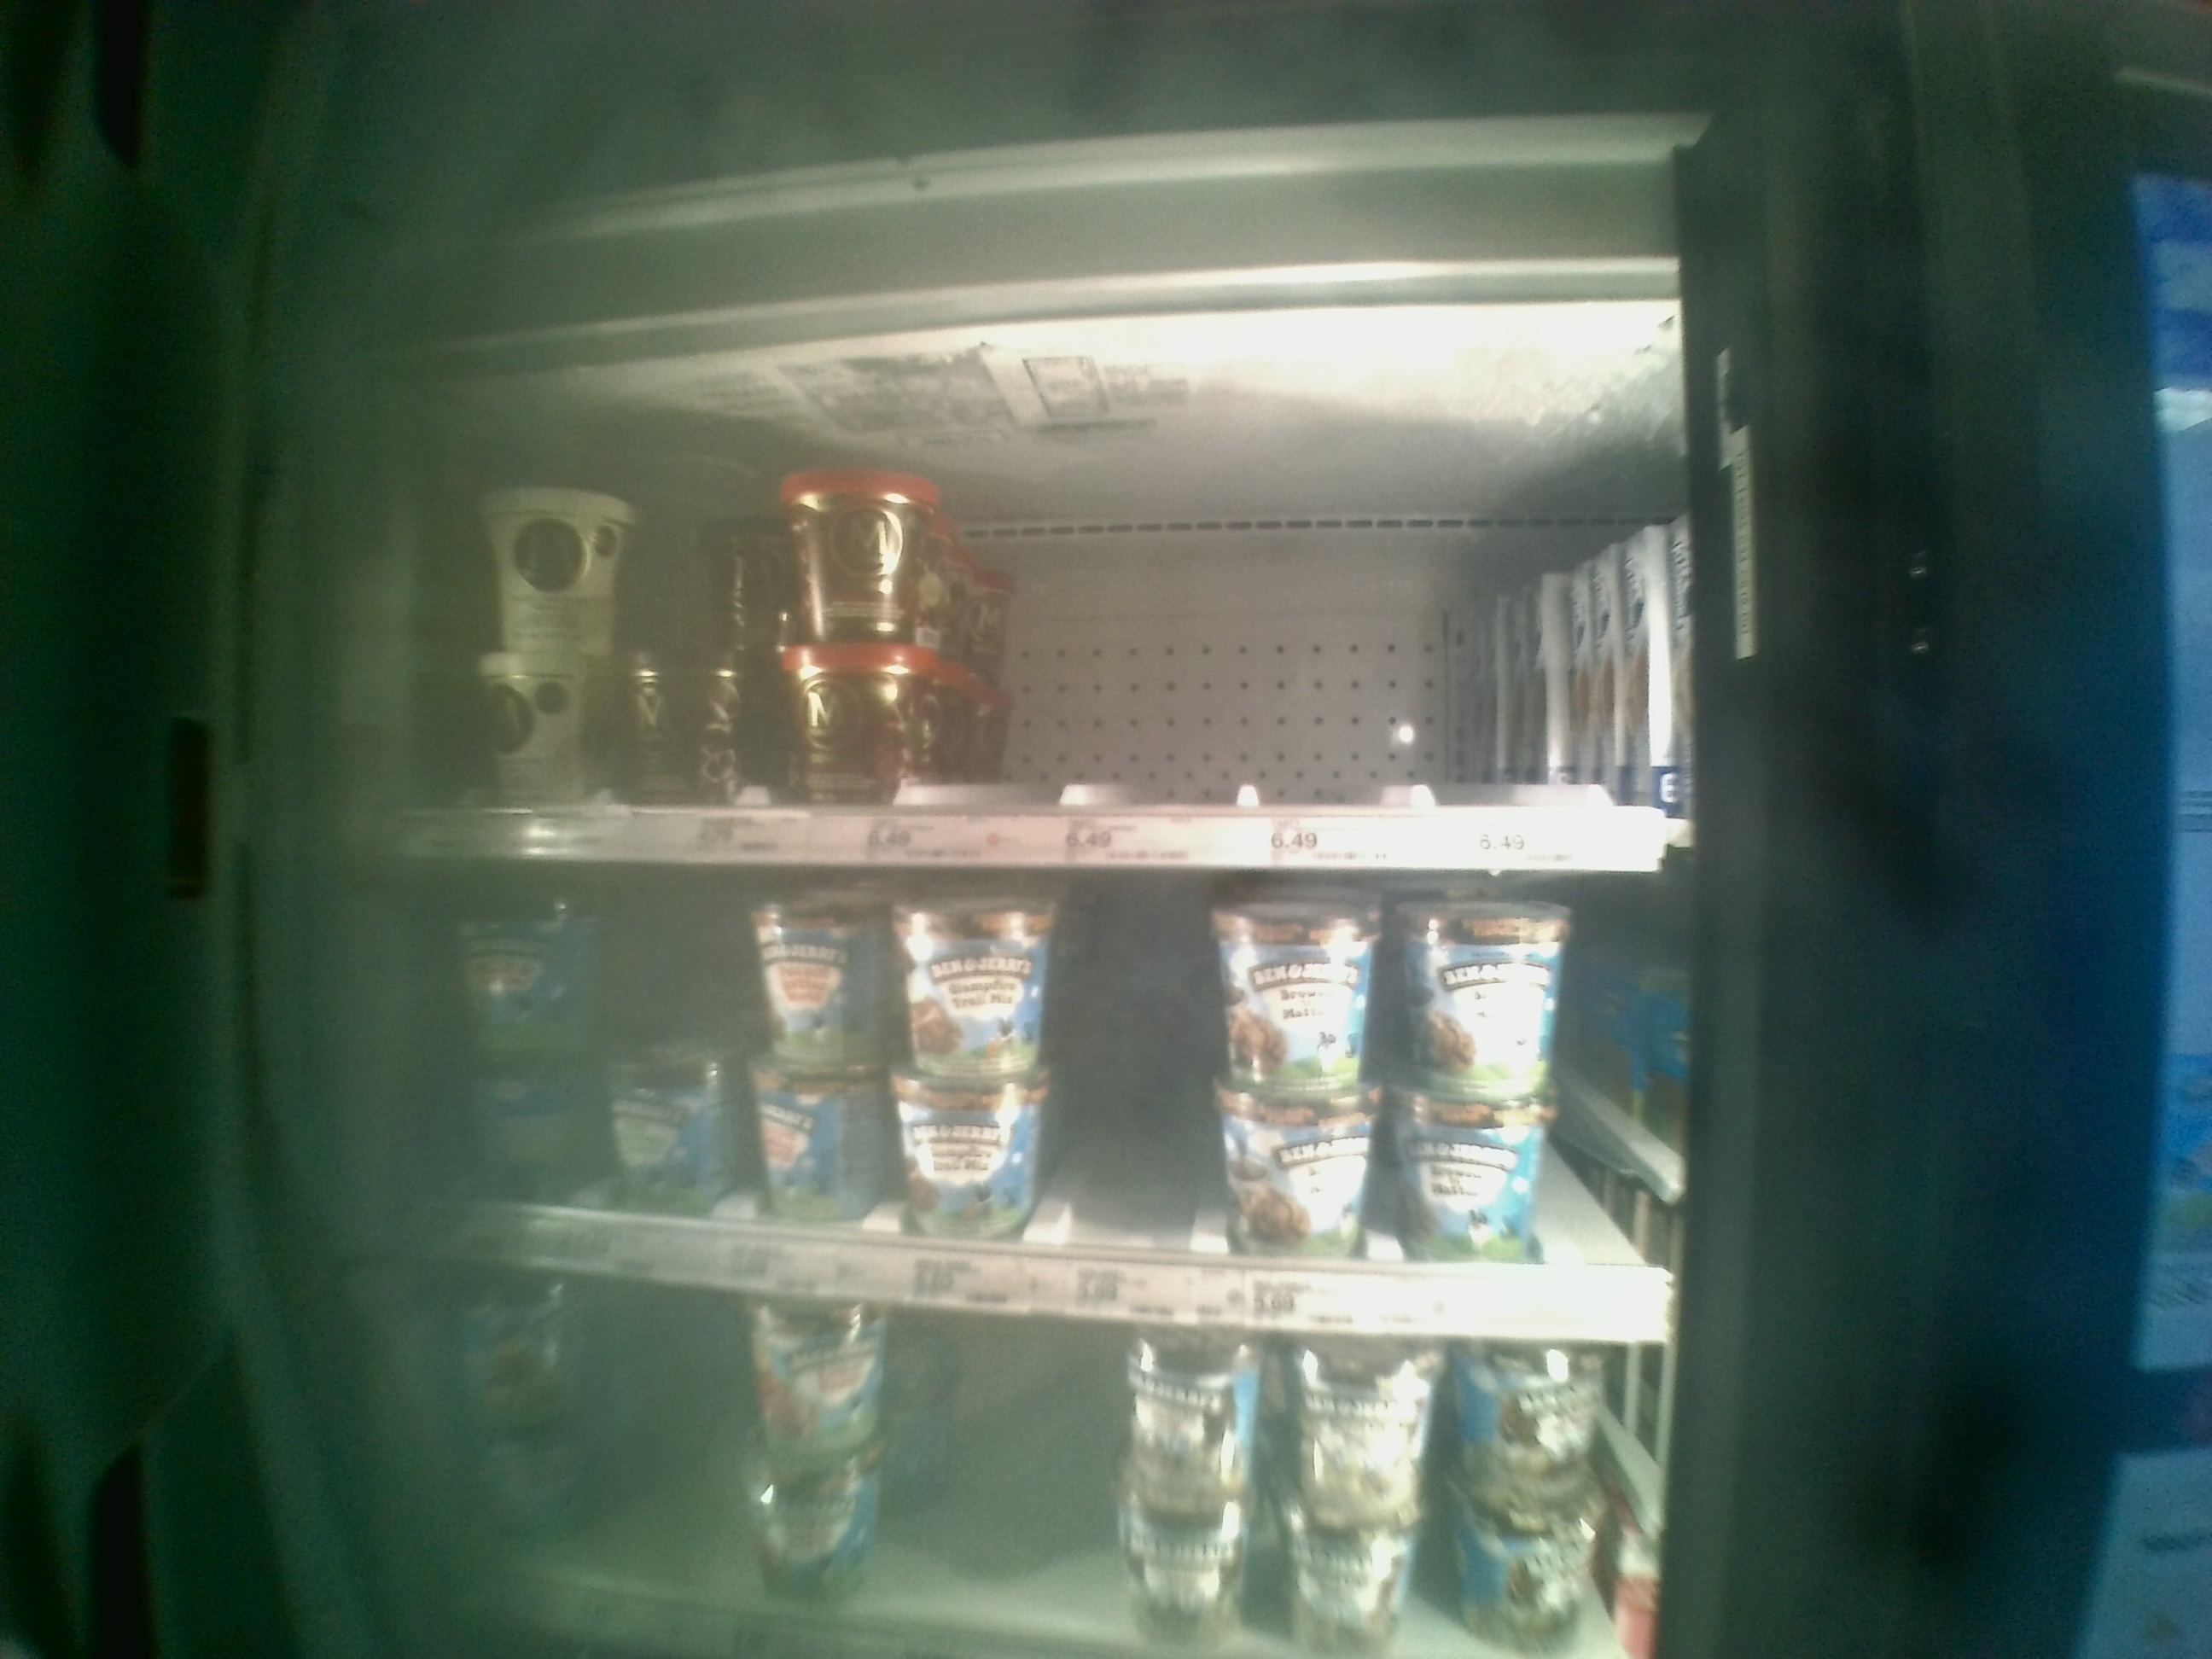shelf: (404, 852, 1691, 1349), (404, 369, 1691, 854)
